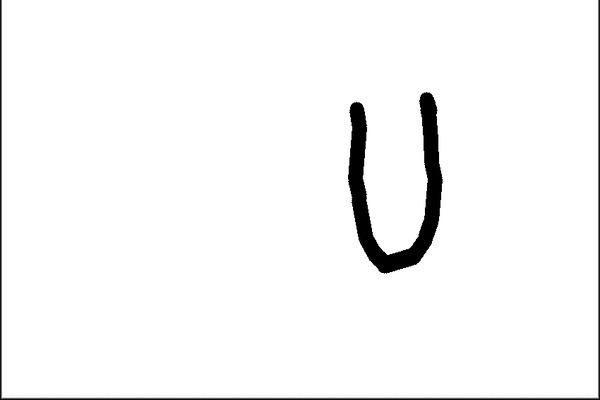U: (333, 86, 459, 276)
